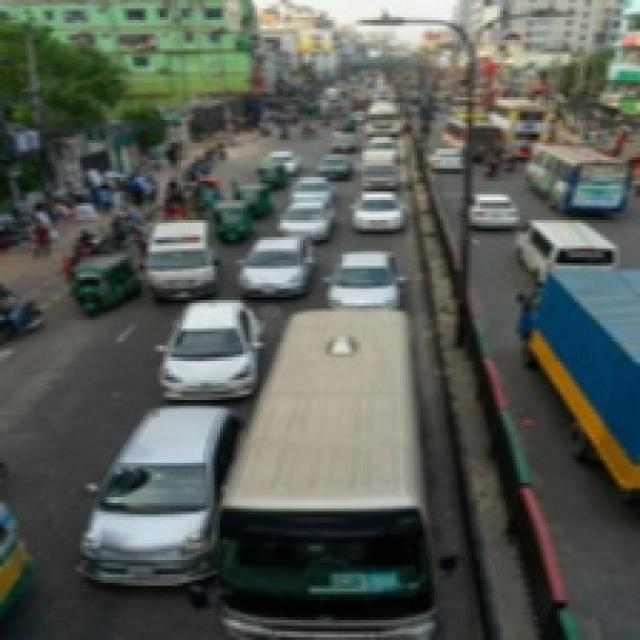bike: (483, 163, 498, 177), (502, 159, 516, 172)
car: (71, 399, 238, 586), (155, 301, 268, 397), (133, 217, 218, 292), (326, 245, 409, 321), (512, 216, 625, 268), (229, 234, 320, 294), (460, 191, 526, 230), (270, 203, 344, 237), (353, 192, 408, 235), (278, 176, 336, 202), (310, 152, 357, 179), (426, 148, 474, 170), (331, 131, 357, 150)
